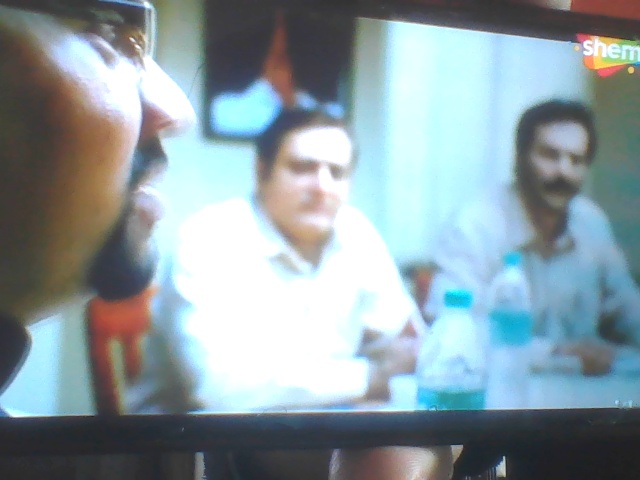fake: (255, 96, 364, 250)
